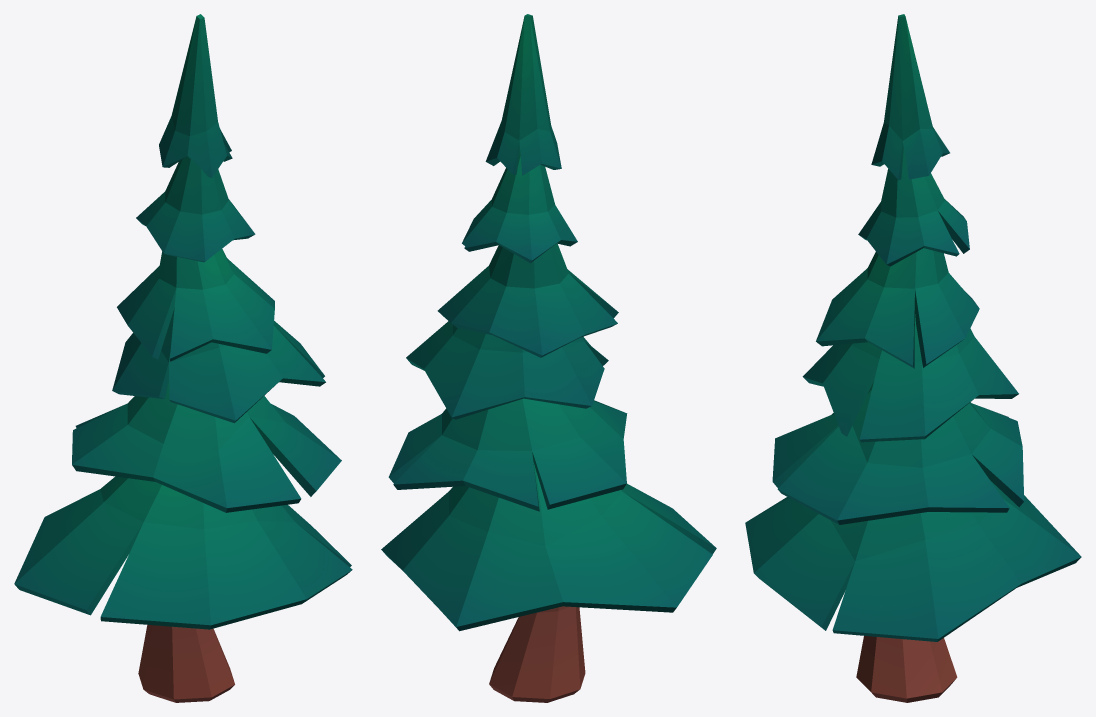
File: low-poly-pine.glb
3 renders of one model, left to right at view 1: azimuth 30°, elevation 25°; view 2: azimuth 150°, elevation 25°; view 3: azimuth 270°, elevation 25°, orthographic.
Visible parts, largest first — view 1: unnamed (×2); view 2: unnamed (×2); view 3: unnamed (×2).
Part boxes in pixels (x1=…): unnamed (×2): x1=14, y1=14, x2=352, y2=702; unnamed (×2): x1=381, y1=14, x2=716, y2=702; unnamed (×2): x1=745, y1=14, x2=1081, y2=702.
Size of the model in its own units: 7.5 by 16.1 by 7.28.
Materials: 2 (2 with a texture image).
